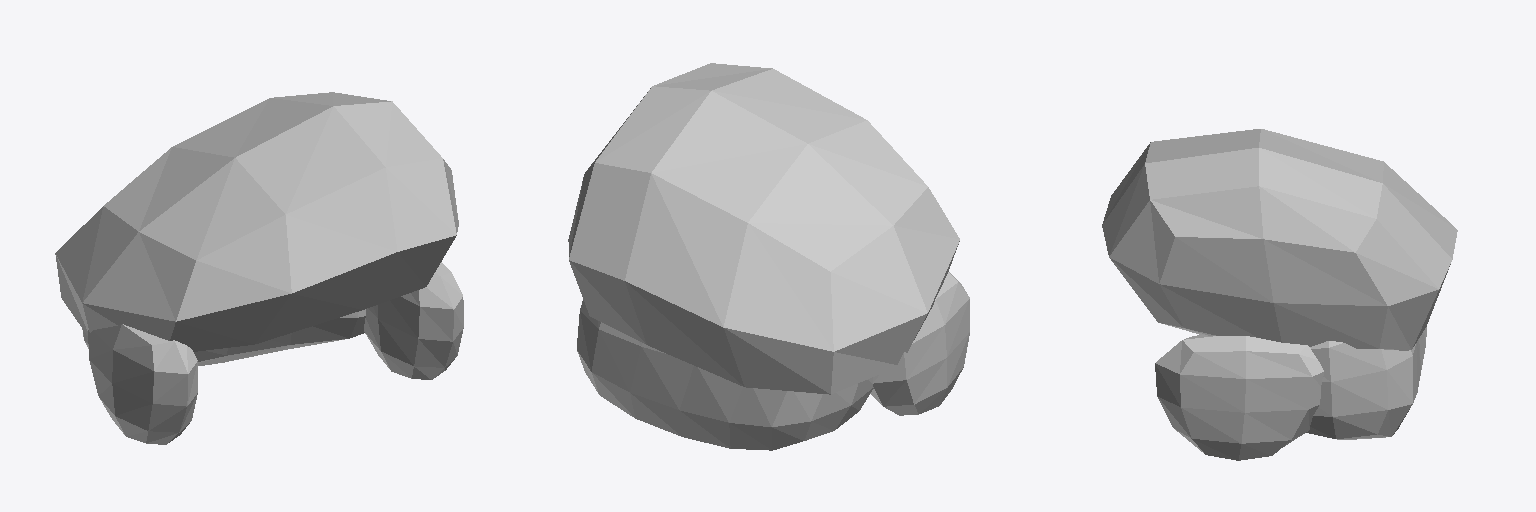
Rendered from hair3.obj.
3 renders of one model, left to right at view 1: azimuth 30°, elevation 25°; view 2: azimuth 150°, elevation 25°; view 3: azimuth 270°, elevation 25°, orthographic.
Visible parts, largest first — view 1: ManHair1_Cube.001; view 2: ManHair1_Cube.001; view 3: ManHair1_Cube.001.
Part boxes in pixels (x1,y1,x2,y2): ManHair1_Cube.001: (55, 92, 463, 444); ManHair1_Cube.001: (568, 63, 969, 450); ManHair1_Cube.001: (1102, 129, 1457, 460).
Size of the model in its own units: 2.33 by 1.88 by 2.15.